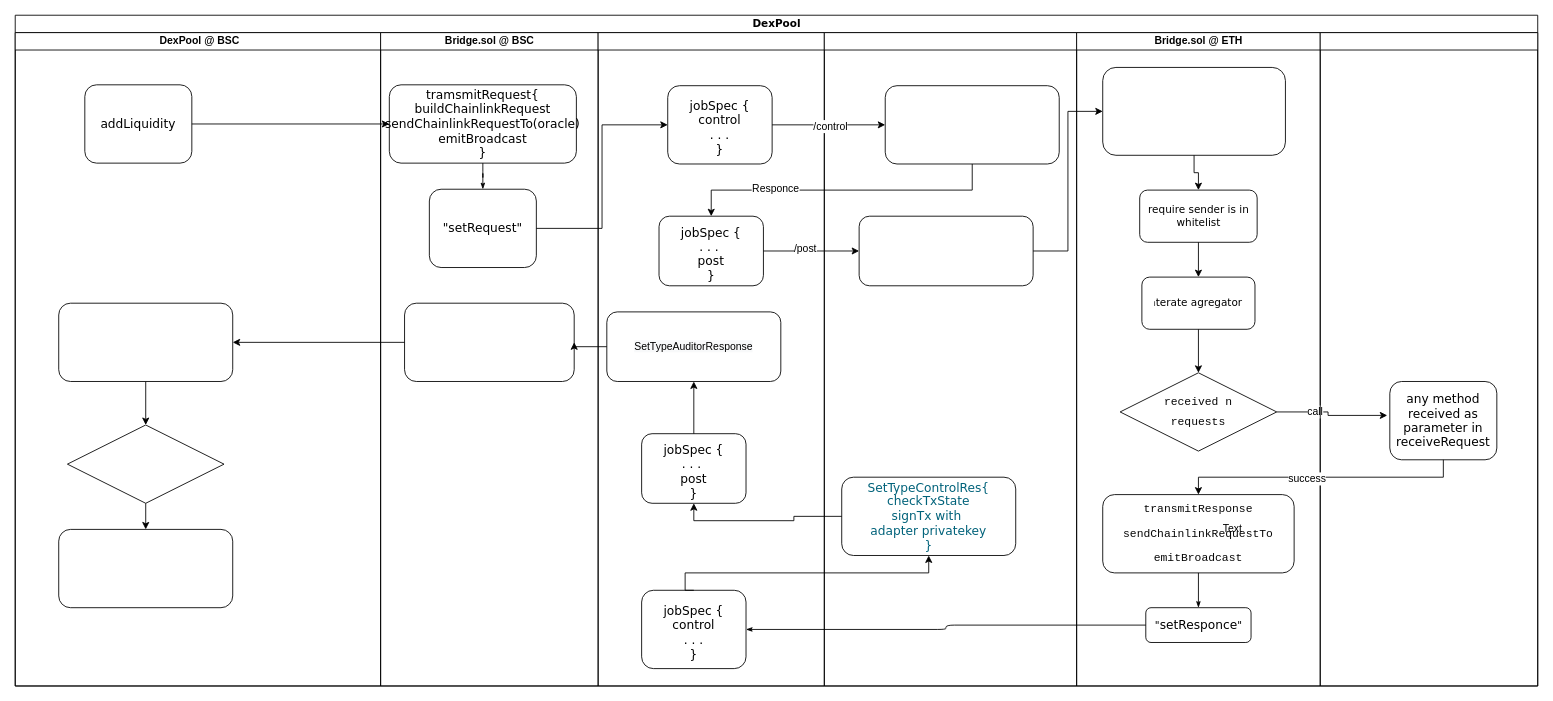
Some shapes in this 1553 by 701 pixel diagram are drawn without their labels. The box of each missing label's shape, as (x1, y1, x2, y2) in pixels:
chainlink External Adapters index.js: (823, 32, 1077, 686)
DexPool @ ETH: (1319, 32, 1538, 686)
if addLiquidity: (67, 424, 224, 503)
job on chainlibk node: (597, 32, 824, 686)
mint: (58, 529, 233, 608)
receiveRequest( ... address receiveSide) ): (1102, 67, 1285, 155)
receiveResponse: (404, 302, 574, 381)
setPendingRequestsDone: (58, 302, 233, 381)
SetTypeAuditorRequest { }: (858, 215, 1033, 286)
SetTypeControlReq{ checkTxState signTx with adapter privatekey }: (884, 85, 1059, 164)
